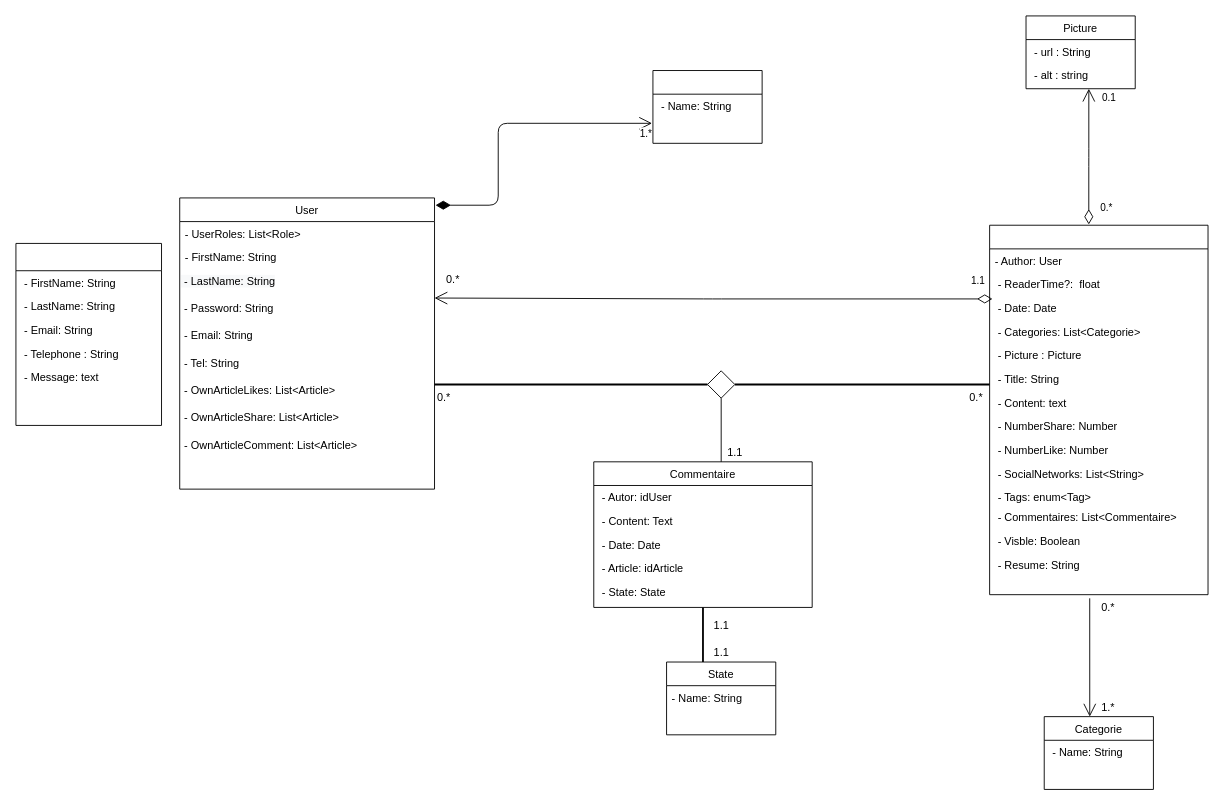
The diagram is 1224 pixels wide and 805 high, and some of its shapes have lost their labels. Each missing label, with the box of its shape:
Article: (989, 224, 1208, 595)
Contact: (15, 243, 162, 425)
Role: (652, 70, 762, 143)
